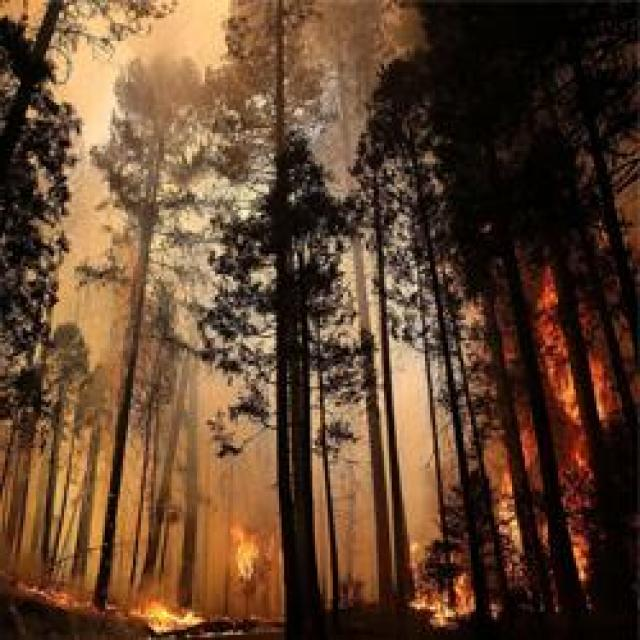fire: (144, 606, 198, 628), (554, 375, 578, 423), (235, 535, 259, 575), (572, 532, 590, 577)
smoke: (142, 2, 204, 90), (8, 551, 38, 575)
